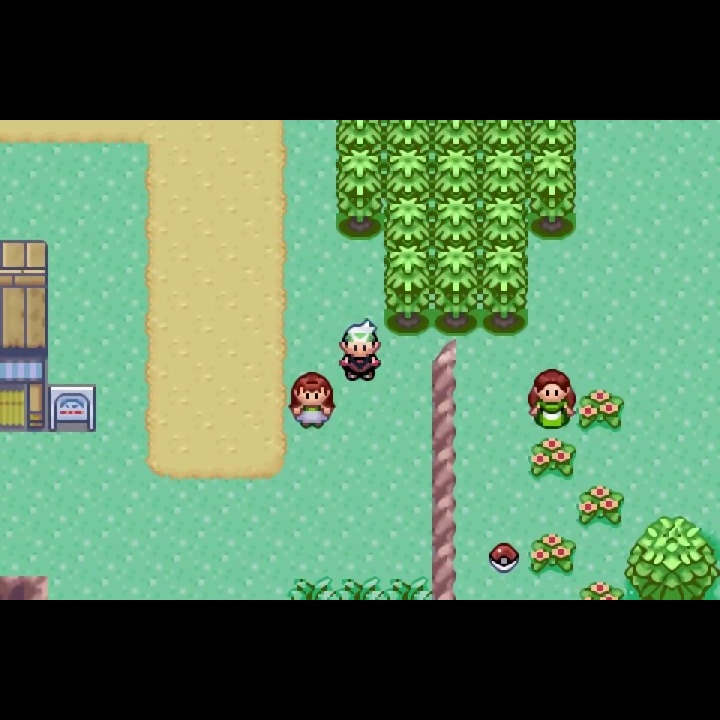grass: (287, 577, 338, 600), (388, 576, 433, 600), (338, 577, 387, 599)
npc: (522, 366, 579, 433), (337, 317, 384, 386), (285, 369, 338, 430)
wall: (623, 514, 720, 600), (334, 149, 385, 239), (383, 244, 432, 337), (528, 148, 576, 242), (431, 243, 478, 336), (481, 242, 528, 335), (479, 148, 528, 200), (385, 149, 433, 198), (434, 149, 479, 199), (384, 198, 432, 244), (480, 200, 527, 244), (432, 200, 480, 243), (334, 120, 385, 149), (479, 120, 529, 149), (385, 120, 435, 149), (434, 120, 481, 149), (528, 120, 576, 148)
